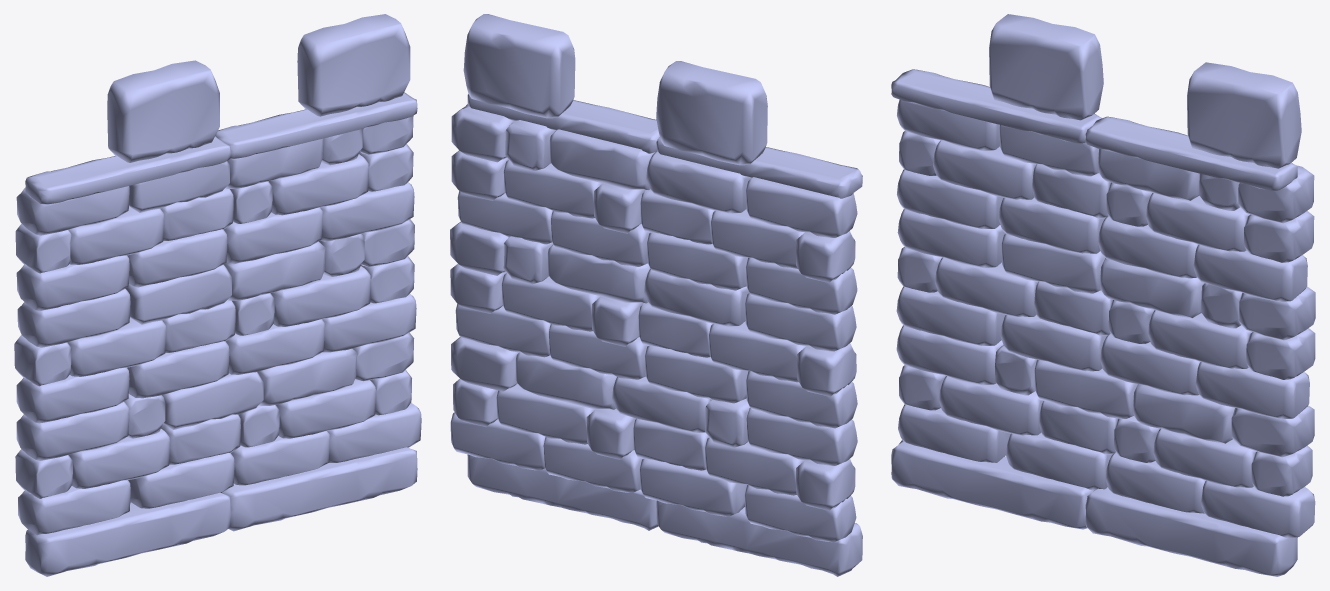
File: SM_Brickwall_01.fbx
The picture shows the model from 3 angles, left to right: view 1: azimuth 30°, elevation 25°; view 2: azimuth 150°, elevation 25°; view 3: azimuth 330°, elevation 25°; orthographic projection. The views are drawn at different scales.
Parts seen in each view (by area): view 1: SM_Brickwall_01; view 2: SM_Brickwall_01; view 3: SM_Brickwall_01.
Boxes of the visible parts, x1,y1,x2,y2 form: SM_Brickwall_01: (14, 14, 421, 576); SM_Brickwall_01: (450, 14, 862, 576); SM_Brickwall_01: (891, 14, 1315, 576).
Bounding box in the file's own units: 10.17 × 1.43 × 11.57.
